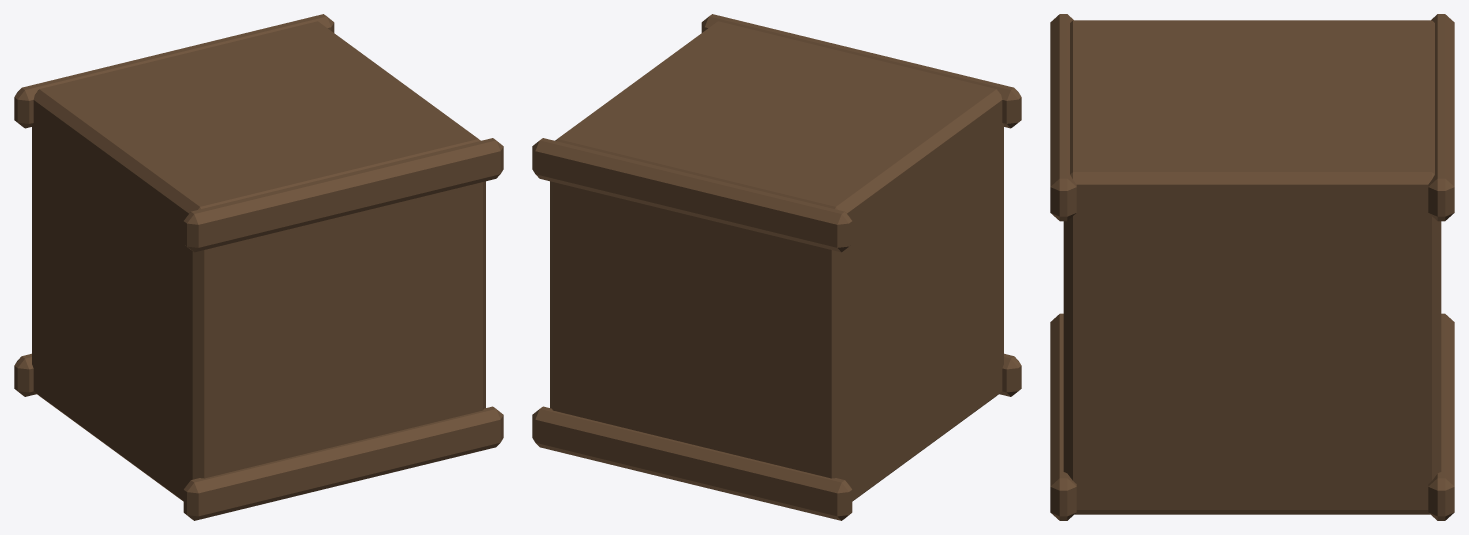
Rendered from crate_s.fbx.
3 views of the same model, side by side, from view 1: azimuth 30°, elevation 25°; view 2: azimuth 150°, elevation 25°; view 3: azimuth 270°, elevation 25° (orthographic). The views are drawn at different scales.
Visible parts, largest first — view 1: crate_s; view 2: crate_s; view 3: crate_s.
Boxes of the visible parts, x1=… form: crate_s: x1=14, y1=14, x2=503, y2=520; crate_s: x1=532, y1=14, x2=1021, y2=520; crate_s: x1=1050, y1=14, x2=1454, y2=520.
Bounding box in the file's own units: 216 × 200 × 214.
